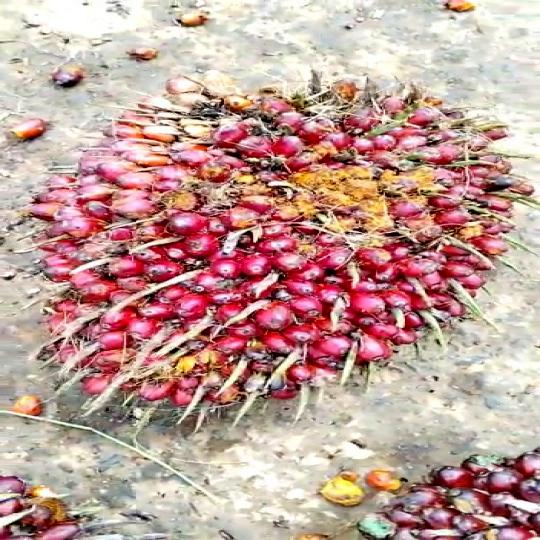kurang masak: (20, 72, 540, 418)
